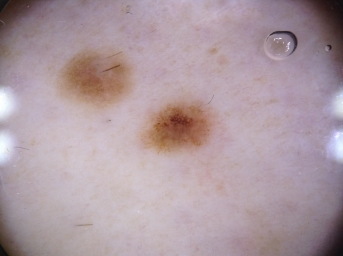melanoma: (59, 55, 130, 101), (149, 107, 210, 152)
